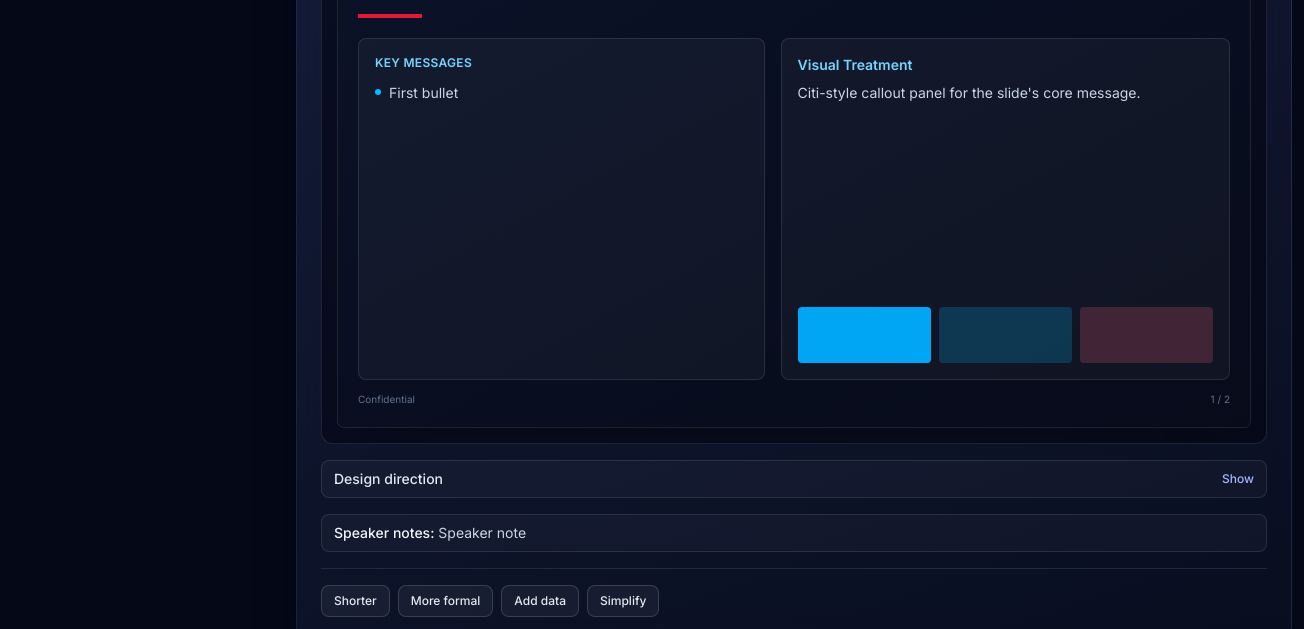
it: PreviewPage › refines the selected slide and updates state
(page scrolled)
Click the button "Shorter" at (355, 601), box [321,585,390,617]
(page scrolled)
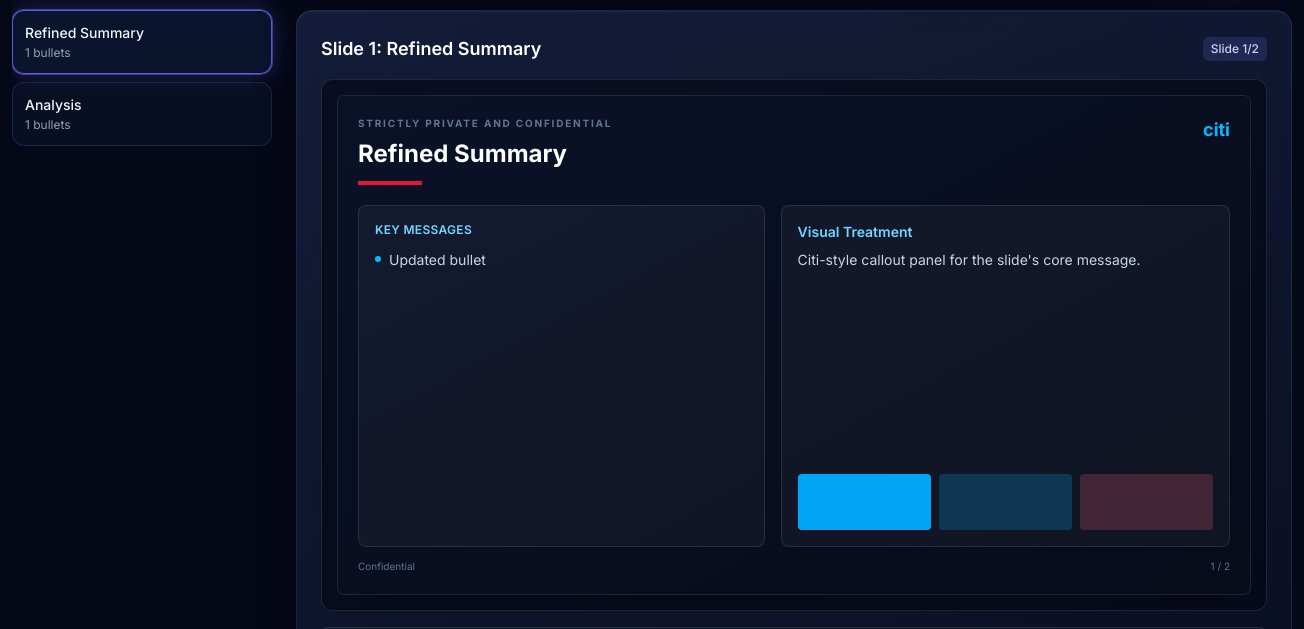
expect the text "Refined Summary" is shown: met, box [25,24,144,41]
